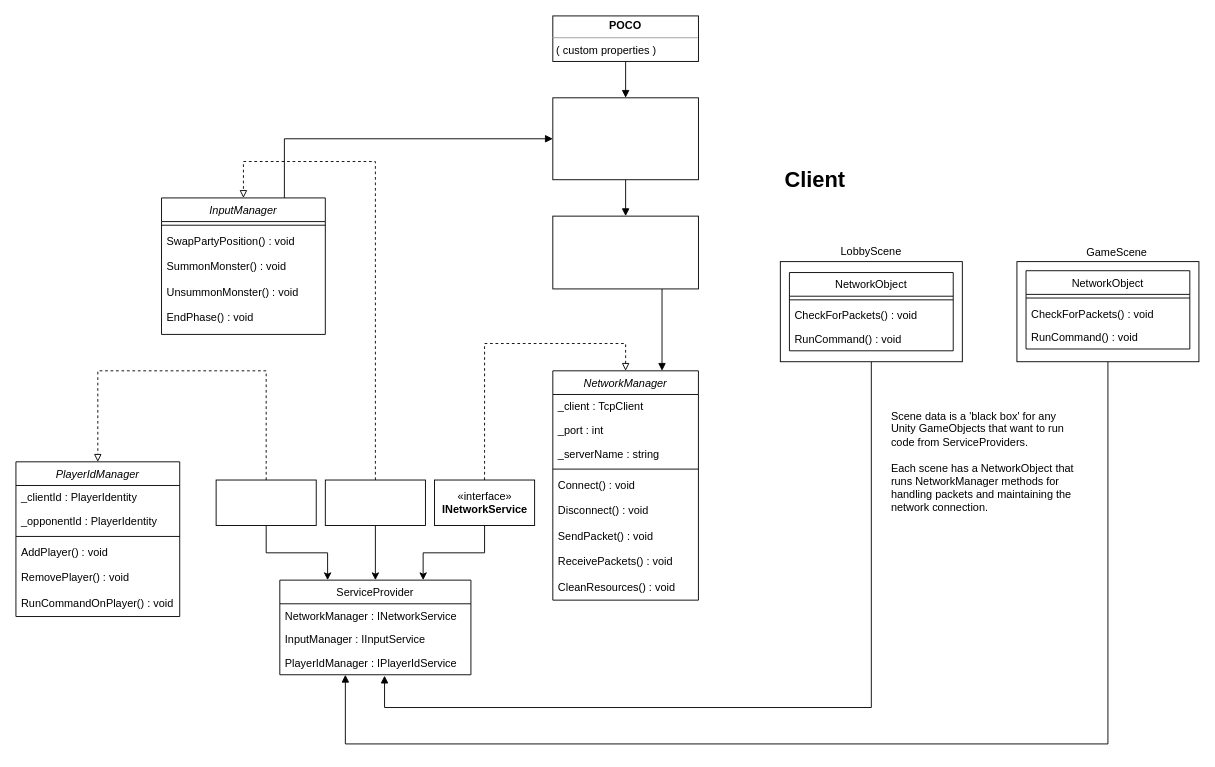
Image size: 1215x767. Some labels were removed from this diagram. Here are the shapes that lost their labels. From the top down, the centre of each, then its label:
the point at 625,138: Command CommandId : enum CommandInfo : POCO Execute() : void
the point at 625,252: Packet PlayerId : string CommandId : int JsonObject : string
the point at 265,502: «interface» IPlayerIdService
the point at 374,502: «interface» IInputService
